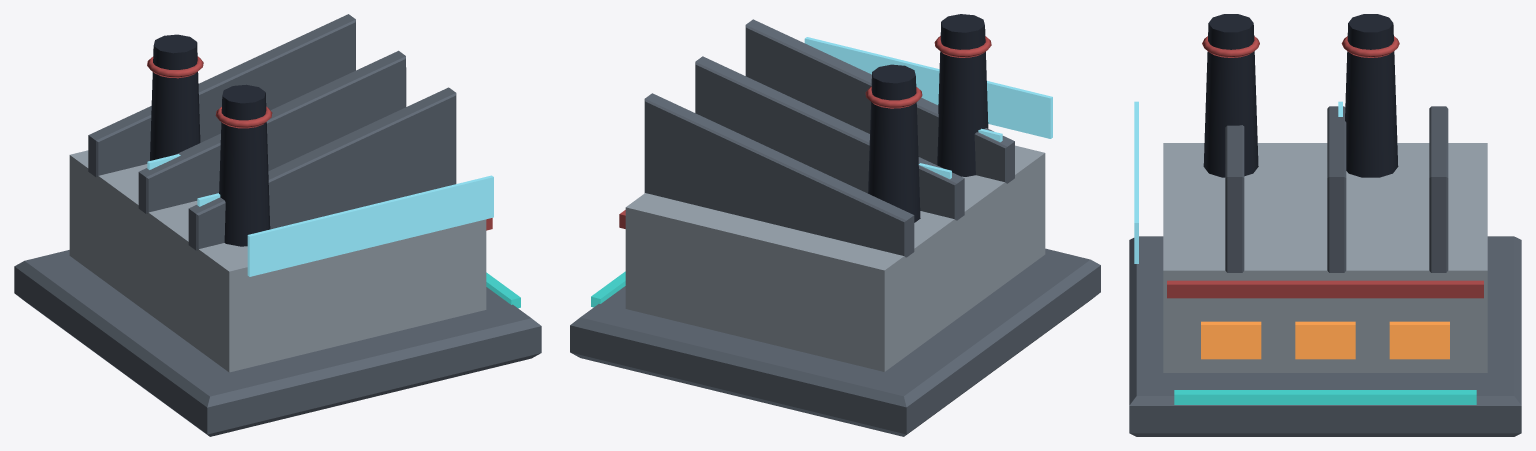
File: processing.glb
3 renders of one model, left to right at view 1: azimuth 30°, elevation 25°; view 2: azimuth 150°, elevation 25°; view 3: azimuth 270°, elevation 25°, orthographic.
Parts seen in each view (by area): view 1: processing; view 2: processing; view 3: processing.
Boxes of the visible parts, x1=… form: processing: x1=14, y1=14, x2=541, y2=436; processing: x1=570, y1=14, x2=1100, y2=436; processing: x1=1129, y1=14, x2=1521, y2=436.
Size of the model in its own units: 1.04 by 0.86 by 1.04.
